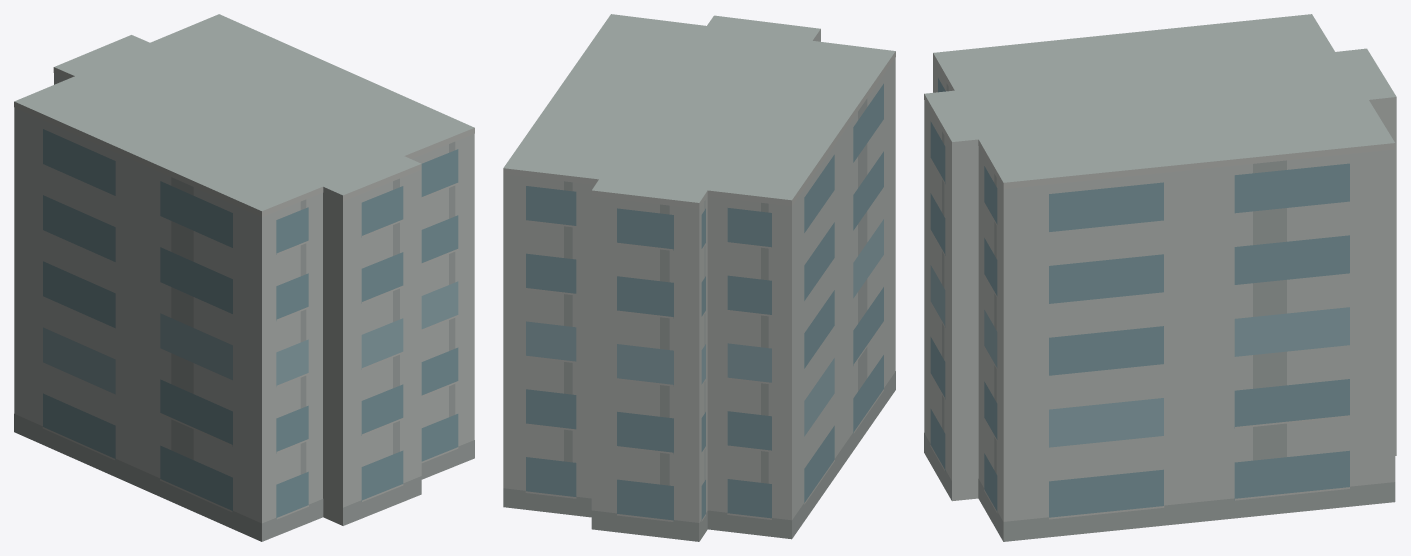
Rendered from survey-upis-32812207.glb.
The picture shows the model from 3 angles, left to right: view 1: azimuth 30°, elevation 25°; view 2: azimuth 150°, elevation 25°; view 3: azimuth 270°, elevation 25°; orthographic projection. The views are drawn at different scales.
Parts seen in each view (by area): view 1: survey-upis-32812207.tmp; view 2: survey-upis-32812207.tmp; view 3: survey-upis-32812207.tmp.
Boxes of the visible parts, x1,y1,x2,y2 form: survey-upis-32812207.tmp: [14, 14, 474, 541]; survey-upis-32812207.tmp: [503, 14, 895, 541]; survey-upis-32812207.tmp: [924, 14, 1396, 541].
Size of the model in its own units: 13.72 by 13.6 by 16.23.
